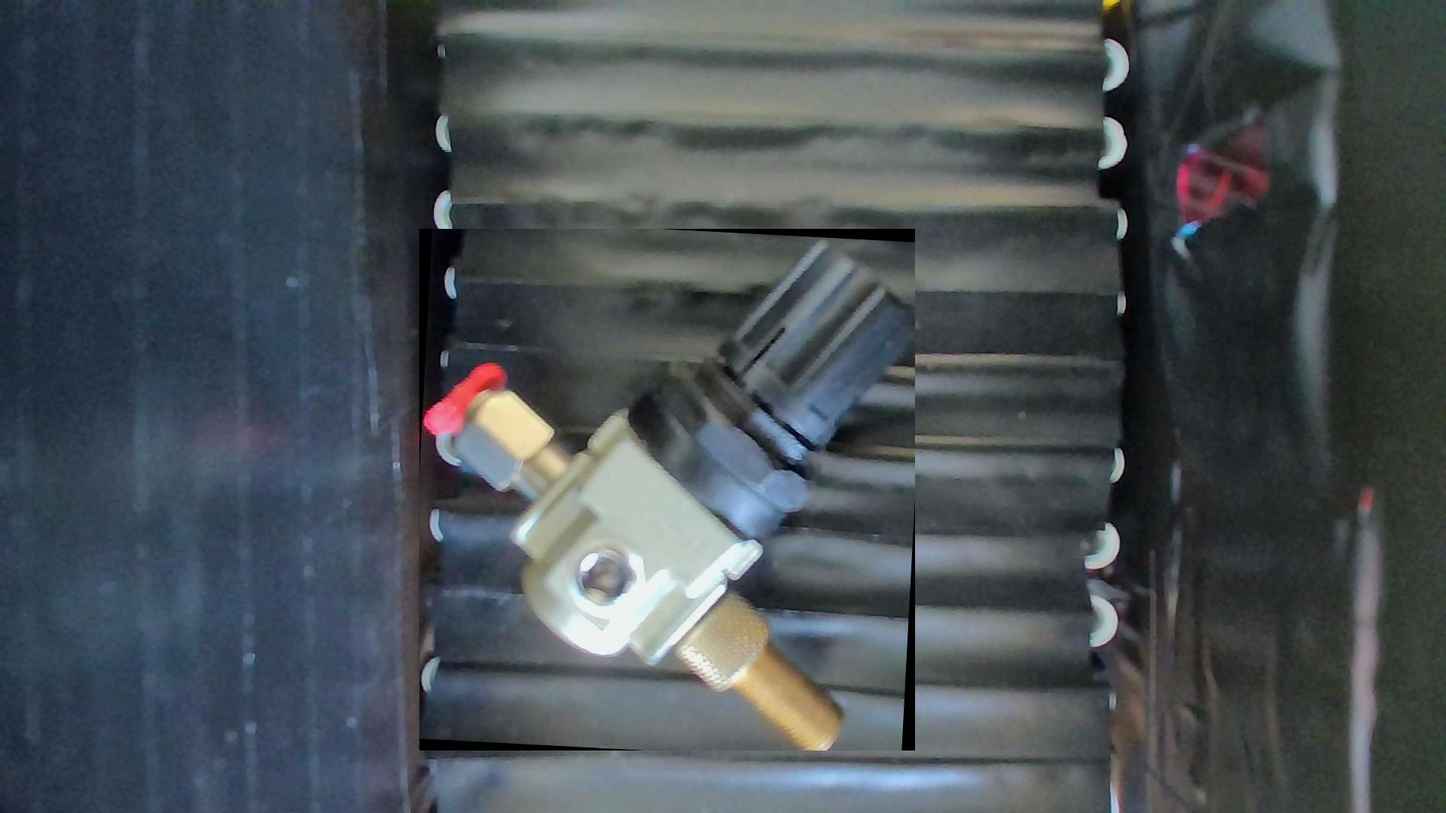regulator: (418, 229, 914, 751)
